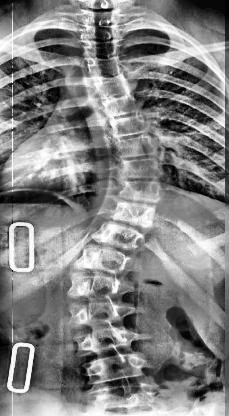Vertebrae: (67, 320, 140, 360), (89, 380, 158, 414), (80, 353, 149, 385), (66, 294, 132, 326), (89, 218, 146, 252), (66, 272, 128, 300), (108, 198, 160, 230), (74, 244, 128, 274), (104, 110, 158, 138), (116, 176, 164, 206), (116, 156, 166, 184), (111, 134, 163, 160), (88, 72, 138, 98), (81, 52, 127, 78), (94, 93, 144, 116), (81, 38, 125, 58), (79, 23, 123, 42), (80, 9, 122, 27)
